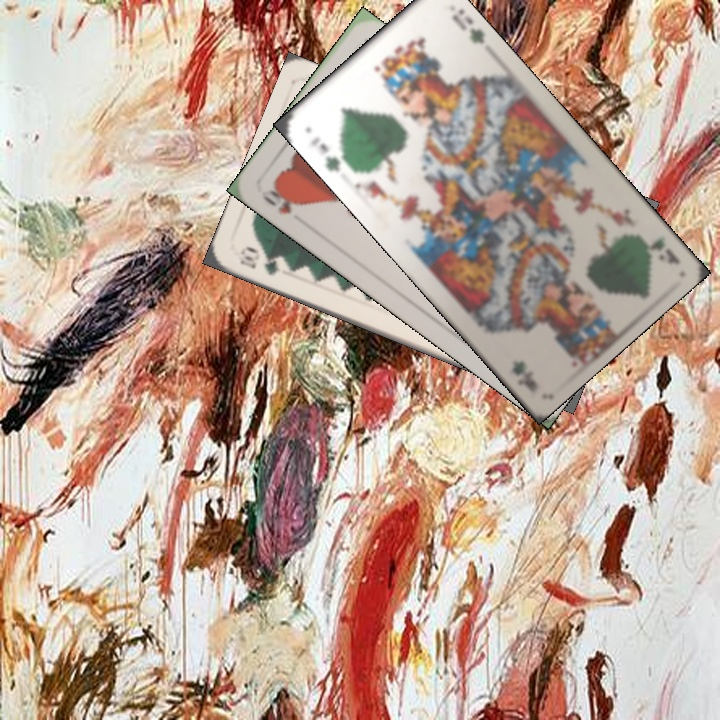G10: (236, 243, 283, 278)
GK: (628, 228, 682, 267), (306, 133, 352, 175)
HO: (257, 182, 305, 217)
